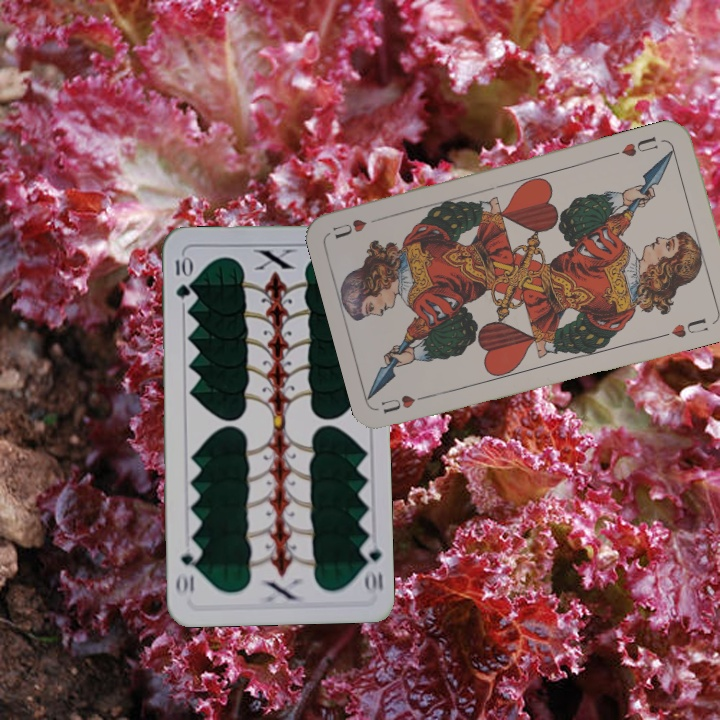G10: (358, 537, 386, 596), (171, 253, 192, 301)
HU: (377, 389, 435, 416), (608, 132, 661, 159)
